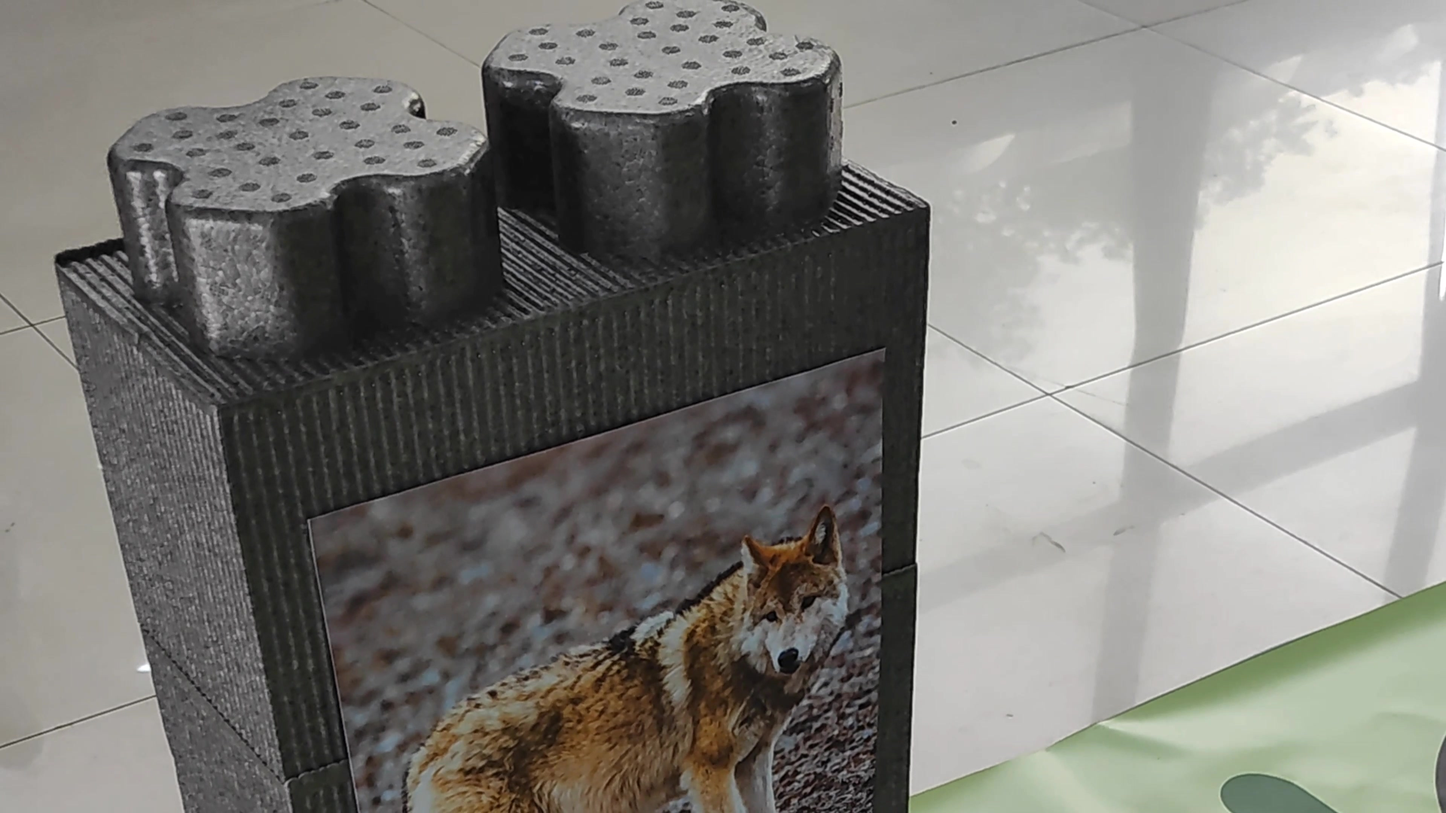wolf: (384, 493, 872, 813)
